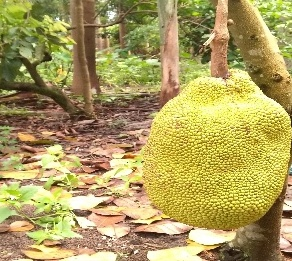Mit: (147, 69, 288, 228)
